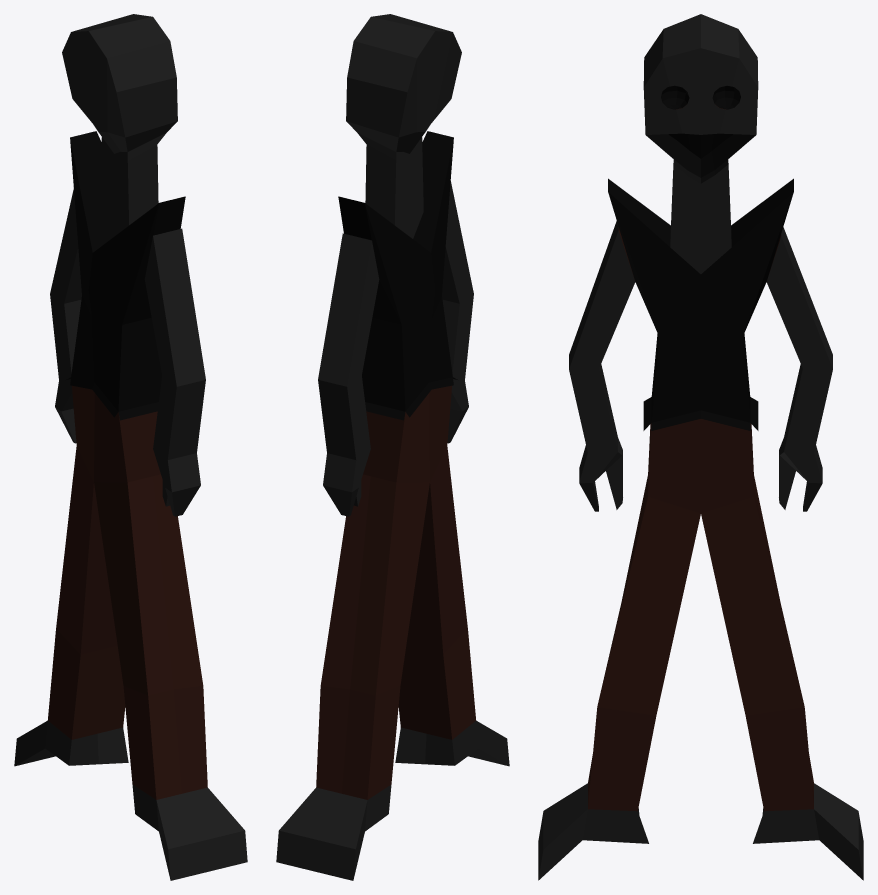
The model's file is SlendEnemigo.fbx.
3 renders of one model, left to right at view 1: azimuth 30°, elevation 25°; view 2: azimuth 150°, elevation 25°; view 3: azimuth 270°, elevation 25°, orthographic. The views are drawn at different scales.
Parts seen in each view (by area): view 1: Cube; view 2: Cube; view 3: Cube.
Boxes of the visible parts, left/top/right/bottom form: Cube: left=14, top=14, right=247, bottom=880; Cube: left=276, top=14, right=509, bottom=880; Cube: left=538, top=14, right=863, bottom=880.
Size of the model in its own units: 75.49 by 708 by 253.
